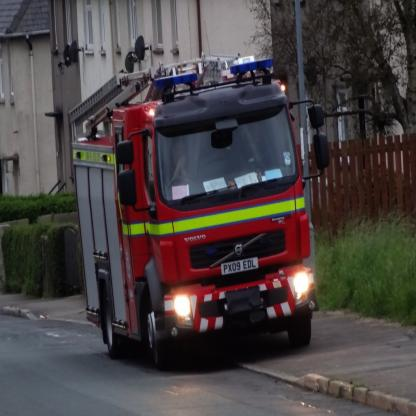Truck: (74, 20, 331, 372)
